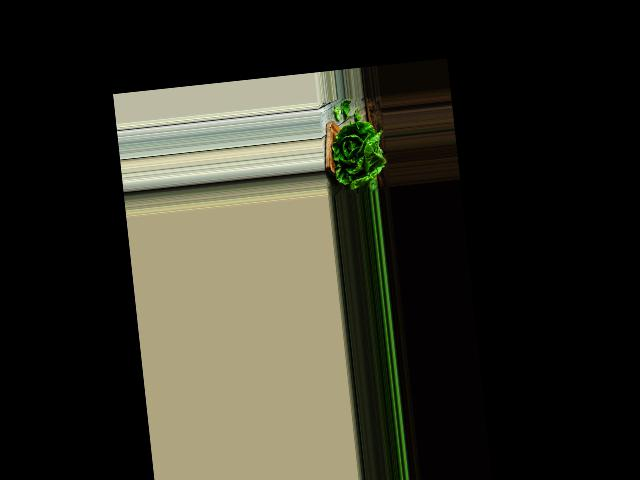lettuce: (327, 122, 387, 192)
